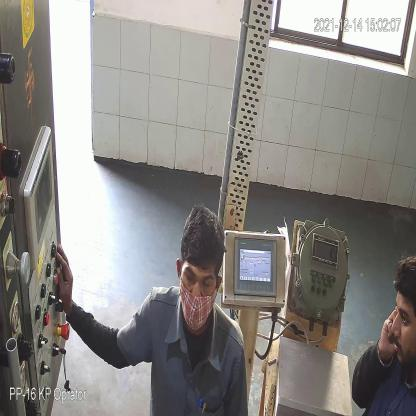no_goggles: (182, 264, 218, 290)
